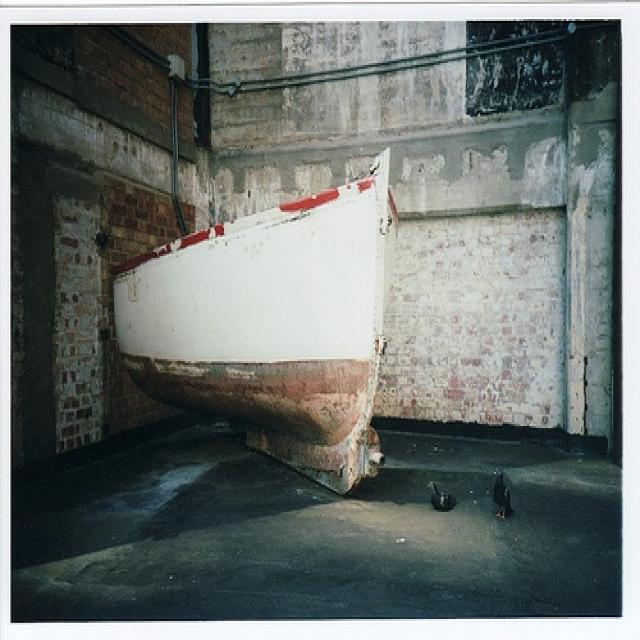boat: (111, 143, 401, 501)
